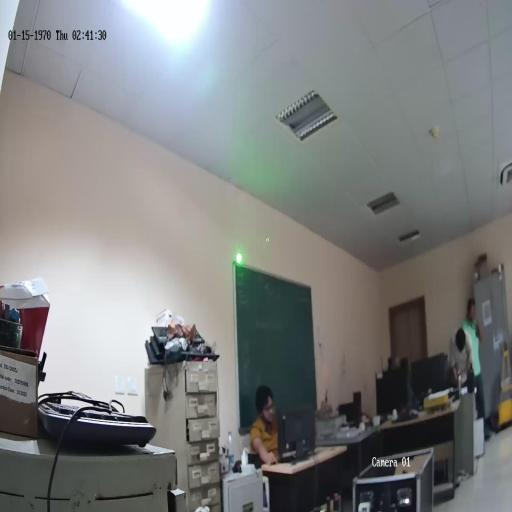laser: (234, 248, 242, 269)
